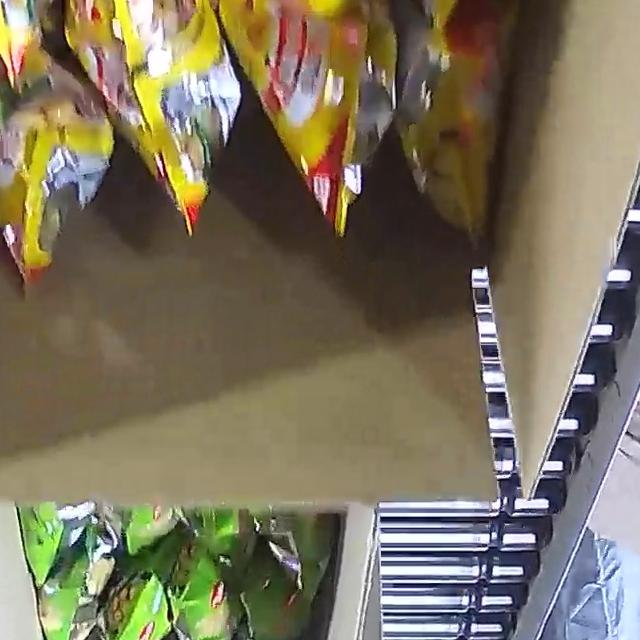salted: (0, 0, 529, 289)
yogurt: (9, 488, 322, 640)
